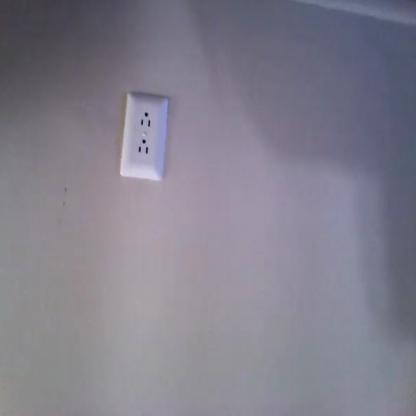OUTLET: (120, 96, 169, 180)
